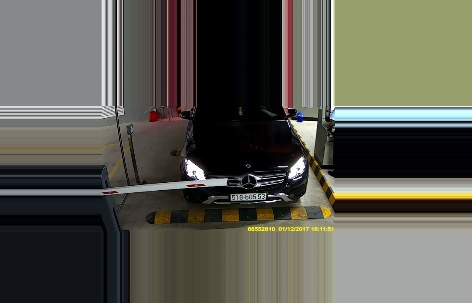plate: (230, 189, 269, 204)
